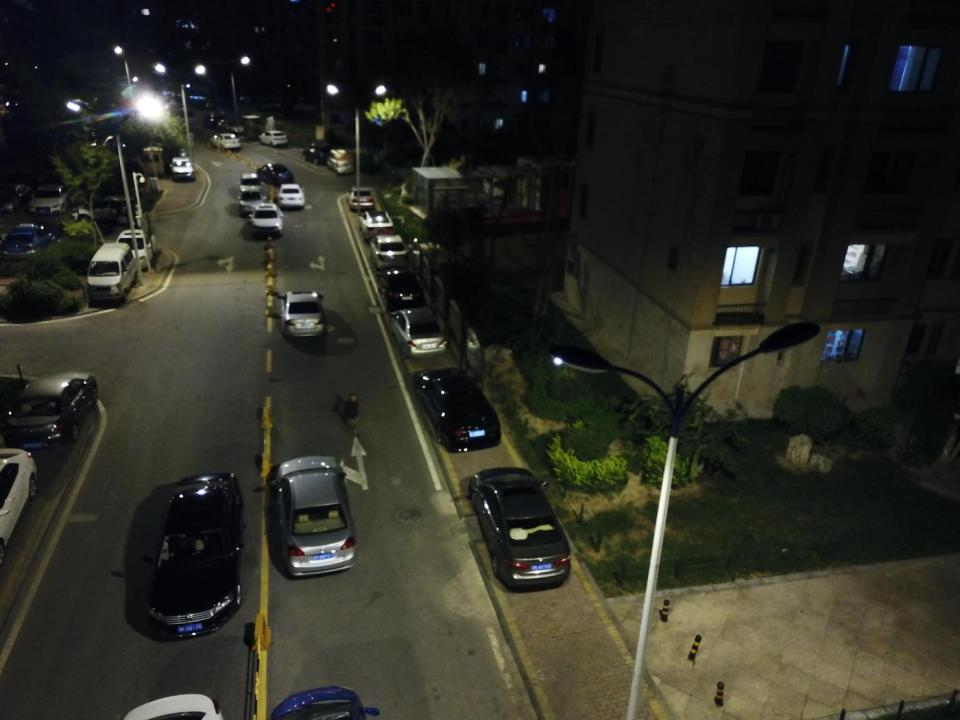car: (147, 470, 246, 642), (468, 466, 570, 589), (271, 454, 358, 579), (1, 369, 101, 452), (412, 362, 502, 454), (390, 304, 446, 362), (276, 289, 324, 343), (0, 222, 60, 263), (380, 269, 429, 313), (70, 196, 138, 226), (112, 228, 154, 271), (32, 180, 73, 219), (368, 233, 410, 270), (250, 202, 286, 241), (357, 208, 396, 241), (257, 158, 298, 188), (1, 180, 32, 213), (238, 188, 271, 218), (274, 182, 308, 210), (300, 140, 336, 166), (346, 183, 375, 213), (326, 147, 355, 177), (234, 173, 267, 197), (203, 106, 234, 130), (168, 154, 194, 180), (210, 131, 241, 152), (216, 116, 246, 136), (257, 131, 290, 148)
van: (84, 243, 138, 303)
